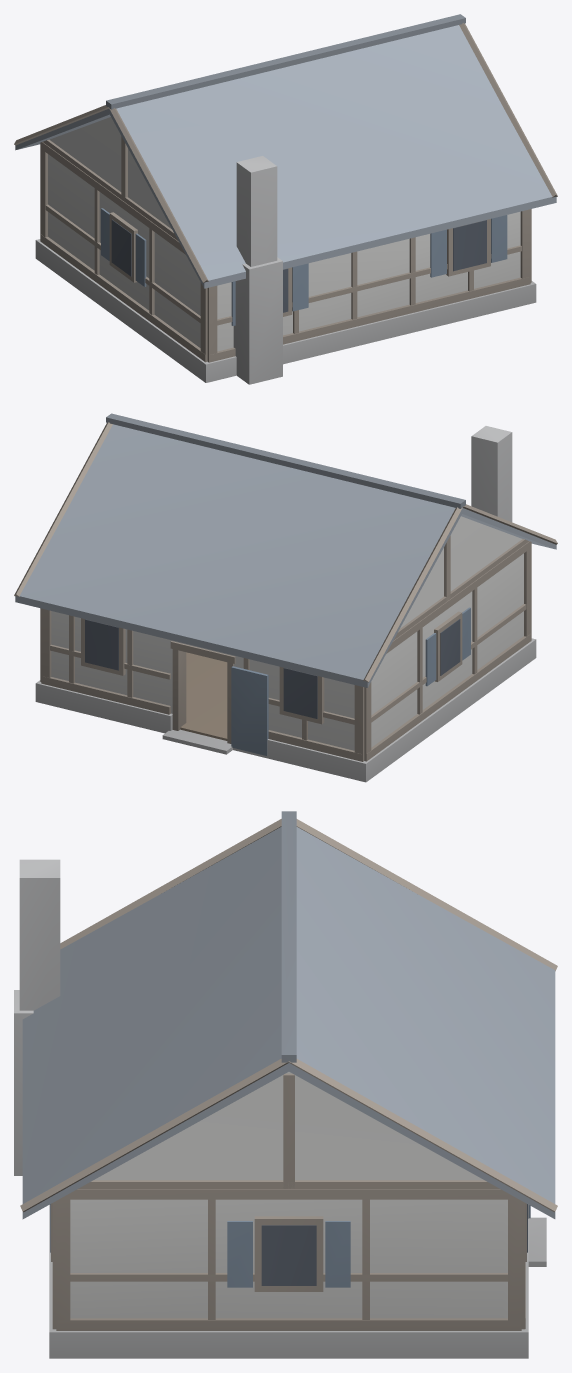
File: open_house_brine.gltf
3 renders of one model, top to bottom at view 1: azimuth 30°, elevation 25°; view 2: azimuth 150°, elevation 25°; view 3: azimuth 270°, elevation 25°, orthographic. The views are drawn at different scales.
Parts seen in each view (by area): view 1: Body; view 2: Body; view 3: Body.
Boxes of the visible parts, x1,y1,x2,y2 form: Body: (14,14,557,384); Body: (14,413,557,782); Body: (14,811,557,1358).
Bounding box in the file's own units: 9.97 × 5.94 × 9.39.
